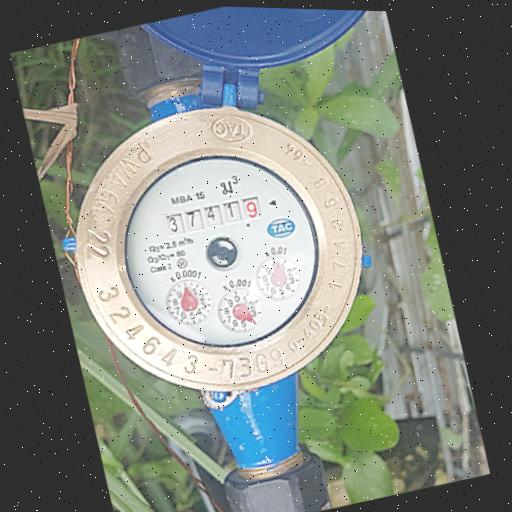1: (225, 201, 242, 223)
3: (166, 211, 185, 236)
4: (204, 202, 224, 228)
7: (185, 208, 204, 231)
9: (244, 197, 261, 220)
border_water_meter_number: (159, 186, 268, 246)
